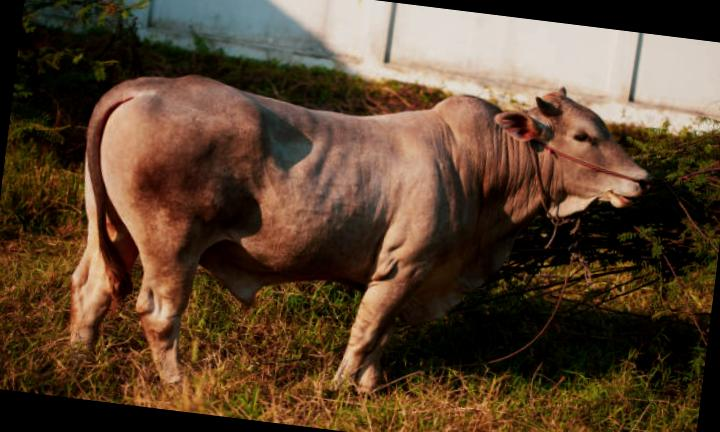Brahman: (72, 77, 647, 388)
